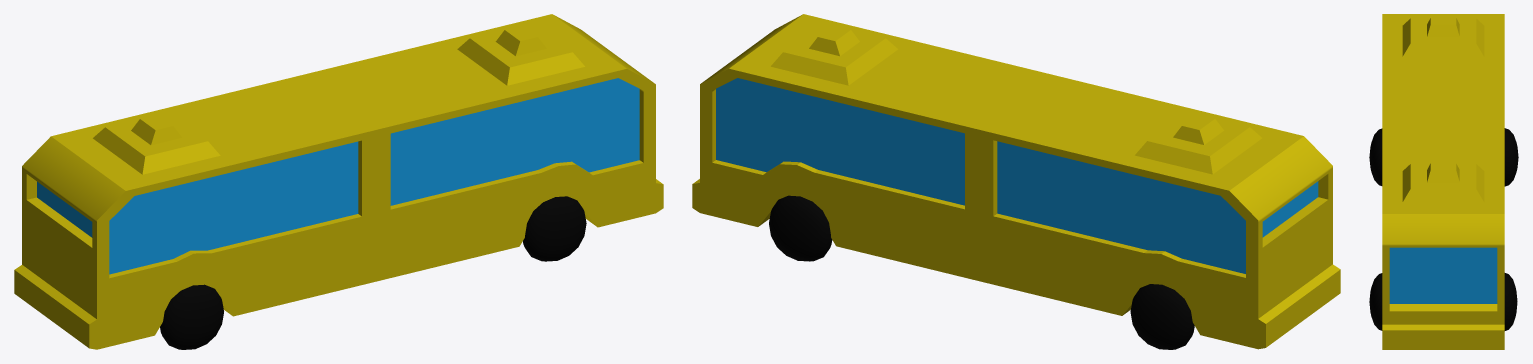
Rendered from Bus.fbx.
3 views of the same model, side by side, from view 1: azimuth 30°, elevation 25°; view 2: azimuth 150°, elevation 25°; view 3: azimuth 270°, elevation 25° (orthographic). The views are drawn at different scales.
Visible parts, largest first — view 1: Plane, Cube.002, Cube; view 2: Plane, Cube.003, Cube.001; view 3: Plane, Cube.003, Cube.001, Cube.002, Cube.
Boxes of the visible parts, left/top/right/bottom form: Plane: left=14, top=14, right=663, bottom=349; Cube.002: left=160, top=284, right=223, bottom=349; Cube: left=523, top=196, right=586, bottom=261; Plane: left=692, top=14, right=1340, bottom=349; Cube.003: left=1130, top=284, right=1194, bottom=349; Cube.001: left=769, top=195, right=832, bottom=261; Plane: left=1382, top=14, right=1504, bottom=349; Cube.003: left=1504, top=128, right=1518, bottom=186; Cube.001: left=1504, top=273, right=1517, bottom=330; Cube.002: left=1369, top=128, right=1382, bottom=185; Cube: left=1369, top=273, right=1382, bottom=330.
Bounding box in the file's own units: 7.92 × 2.63 × 2.18.
